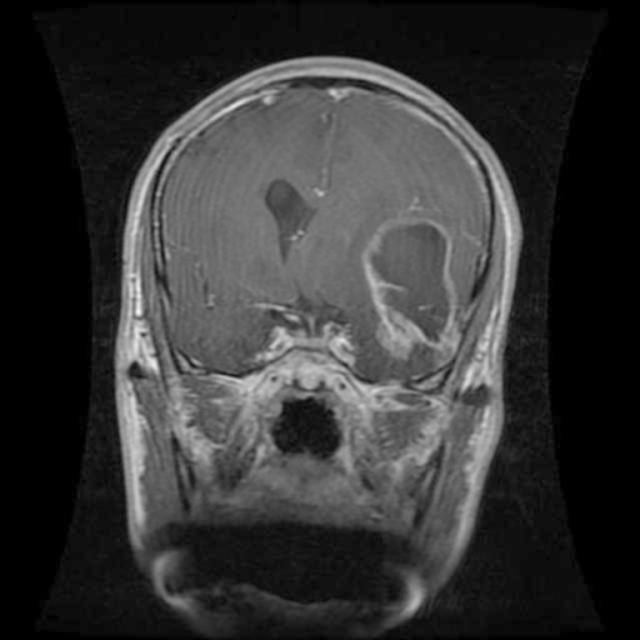pituitary tumor: (365, 218, 469, 352)
